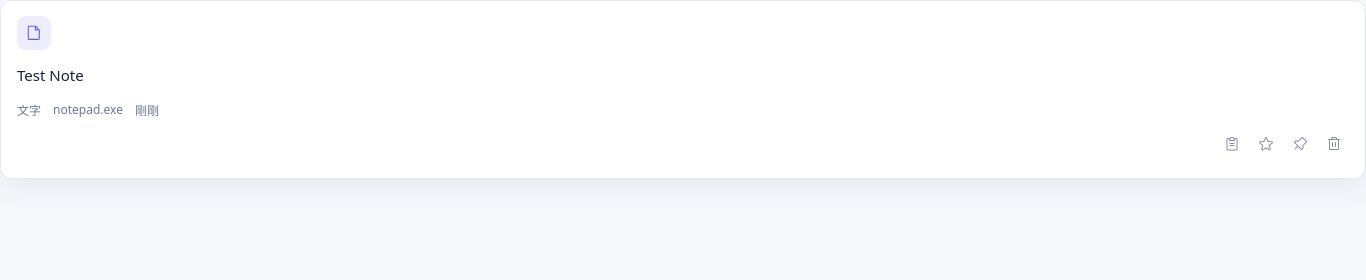
it: InboxItem › opens a labelled board picker menu
This screenshot has width=1366, height=280.
Step 1. Click the button named "加入看板" → click(1232, 144), box [1217,129,1247,159]
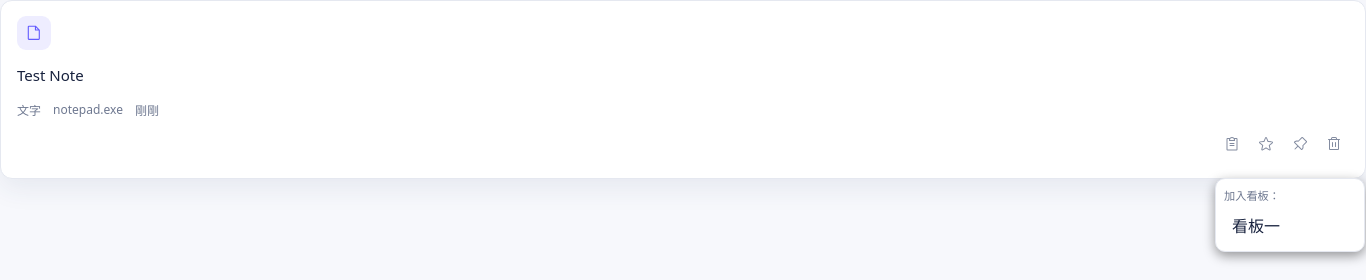
Result: the menu named "選擇目標看板" is shown at [1215,178,1365,252]
Result: the menu item "看板一" is shown at [1224,208,1356,243]
